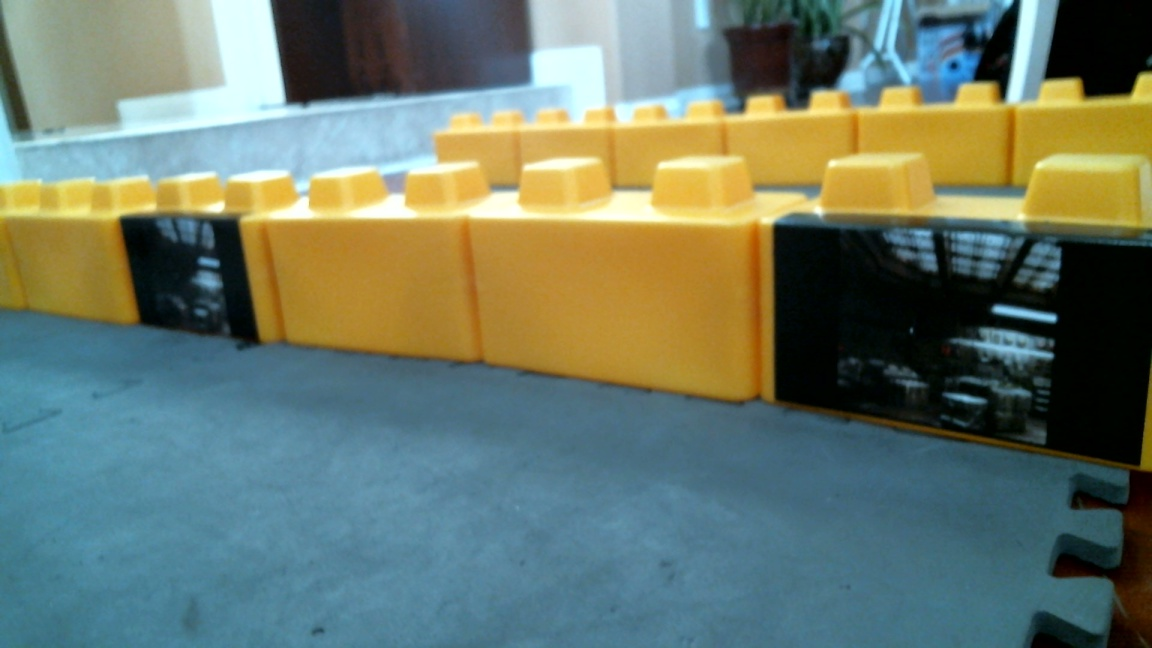skystone: (760, 165, 1152, 417), (119, 176, 282, 355)
stone: (469, 142, 754, 404), (269, 161, 473, 371), (2, 182, 141, 332)
